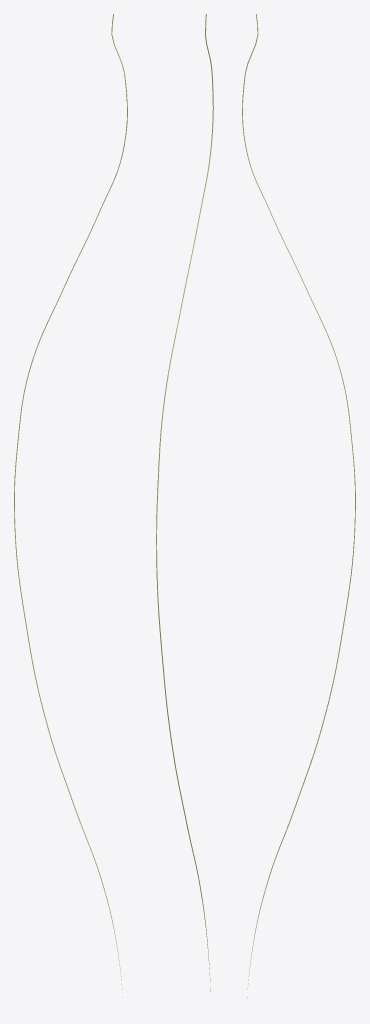
The picture shows the model from 3 angles, left to right: view 1: azimuth 90°, elevation 25°; view 2: azimuth 150°, elevation 25°; view 3: azimuth 270°, elevation 25°; orthographic projection.
Parts seen in each view (by area): view 1: ZA_ee18f7932cf1f101; view 2: ZA_ee18f7932cf1f101; view 3: ZA_ee18f7932cf1f101.
Boxes of the visible parts, box(x1,y1,x2,y2) form: ZA_ee18f7932cf1f101: box(14, 14, 127, 997); ZA_ee18f7932cf1f101: box(156, 14, 213, 991); ZA_ee18f7932cf1f101: box(242, 14, 355, 997).
Bounding box in the file's own units: 0.000501 × 0.4896 × 0.0507.
